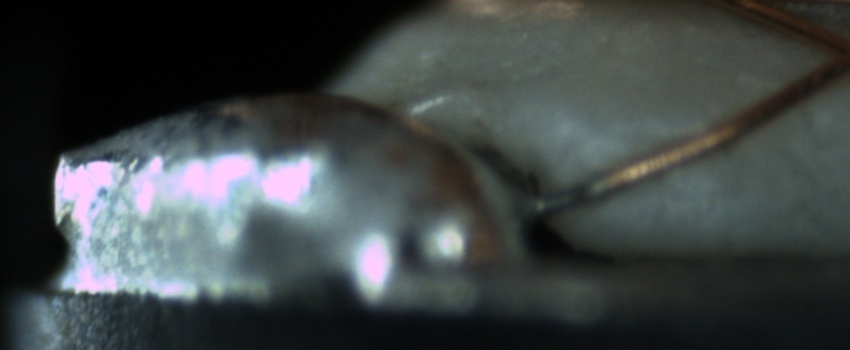CL: (803, 24, 850, 88)
TS: (530, 174, 610, 218)
TTCW: (532, 160, 650, 218)
